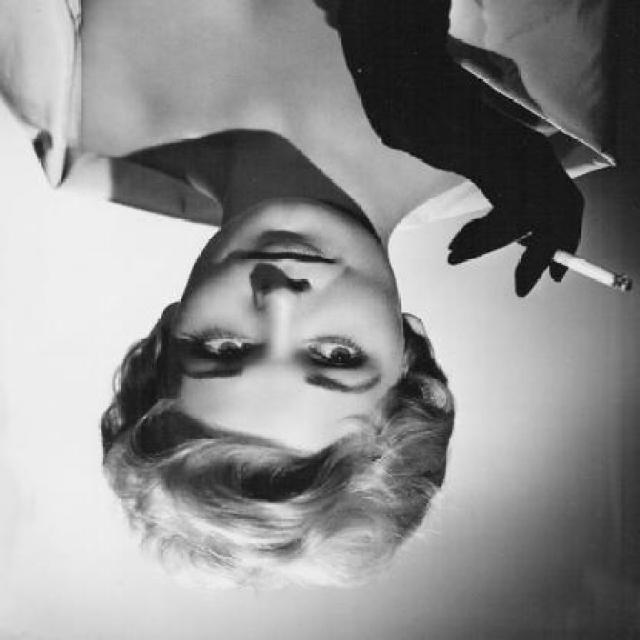smoke: (545, 248, 638, 294)
